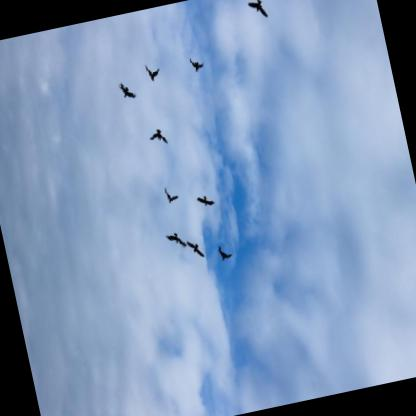bird: (177, 46, 211, 83), (240, 0, 276, 27), (113, 77, 141, 103), (181, 235, 206, 264), (162, 228, 187, 257), (145, 125, 171, 152), (139, 58, 164, 86), (213, 242, 234, 269), (193, 192, 215, 214), (161, 183, 180, 206)
